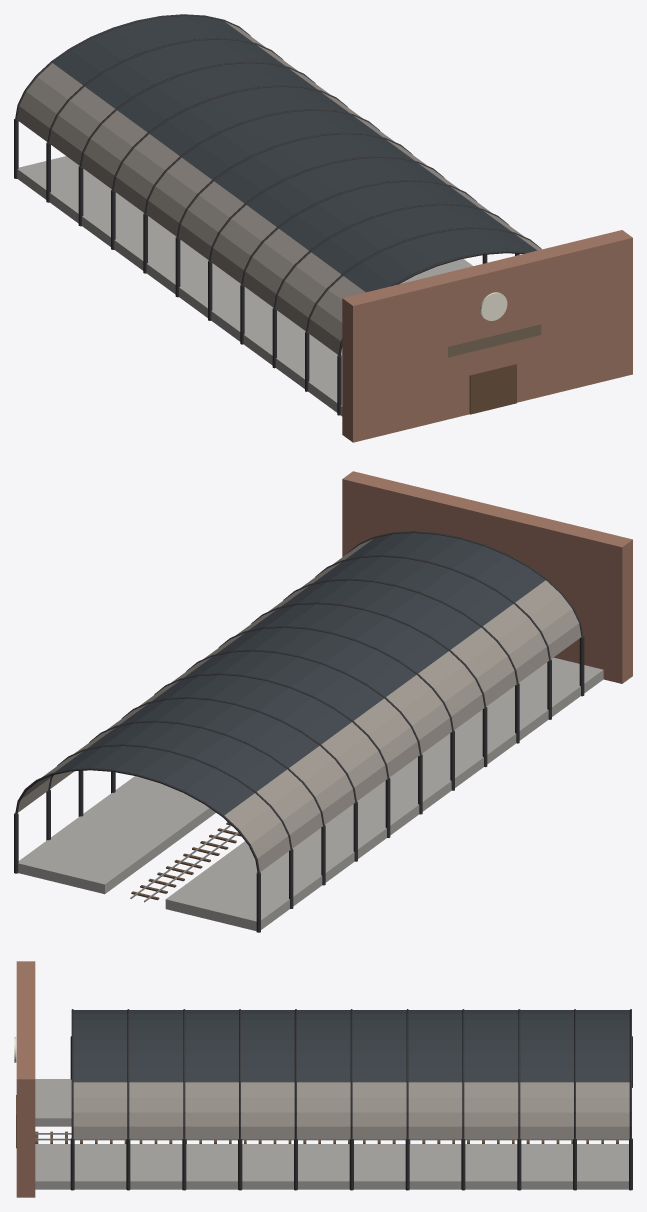
File: station.glb
The picture shows the model from 3 angles, top to bottom: view 1: azimuth 30°, elevation 25°; view 2: azimuth 150°, elevation 25°; view 3: azimuth 270°, elevation 25°; orthographic projection. The views are drawn at different scales.
Visible parts, largest first — view 1: station; view 2: station; view 3: station.
Part boxes in pixels (box(x1,y1,x2,y2)): station: box(14, 14, 632, 442); station: box(14, 471, 632, 932); station: box(14, 961, 632, 1197).
Size of the model in its own units: 30 by 14 by 66.52.
